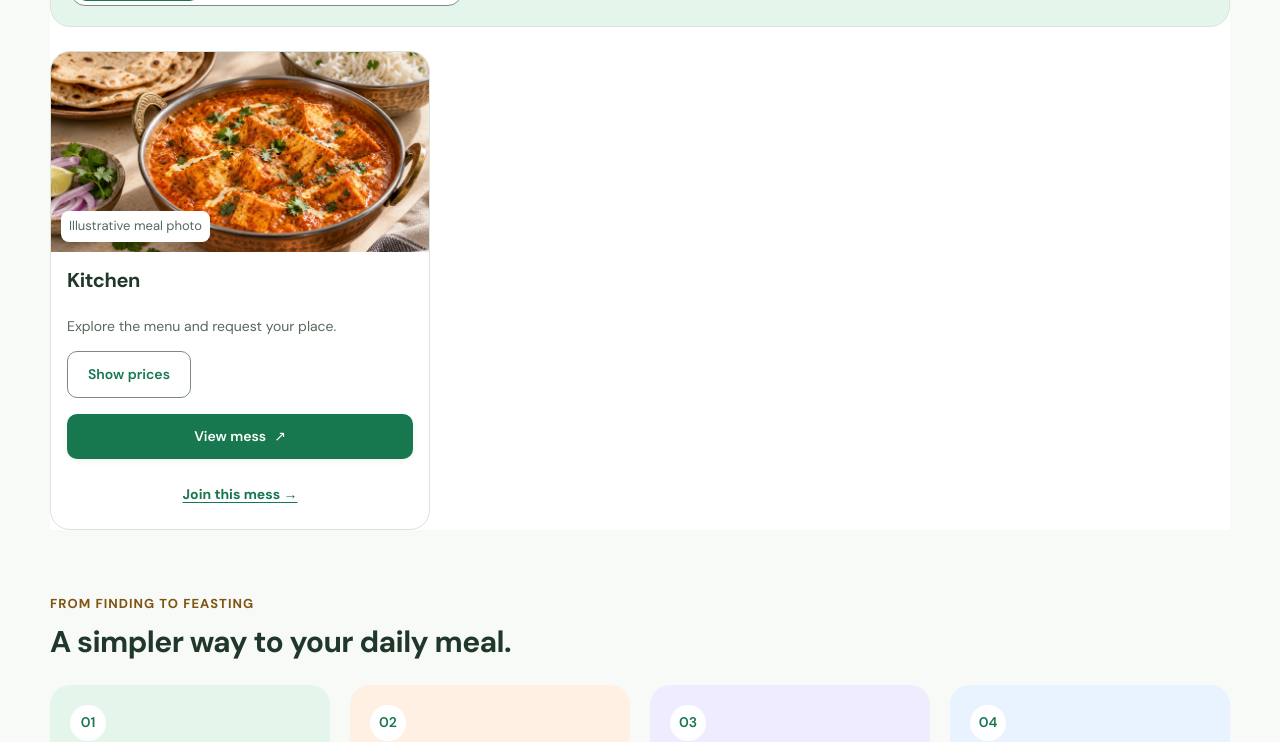
keeps available prices and offers a retry after a partial price failure
(page scrolled)
Expected: the heading "Kitchen" is shown, [67, 266, 140, 292]
What coordinates should you click on to do the following:
click the button "Show prices"
I would click on:
 (129, 374)
Its box is [67, 351, 191, 398].
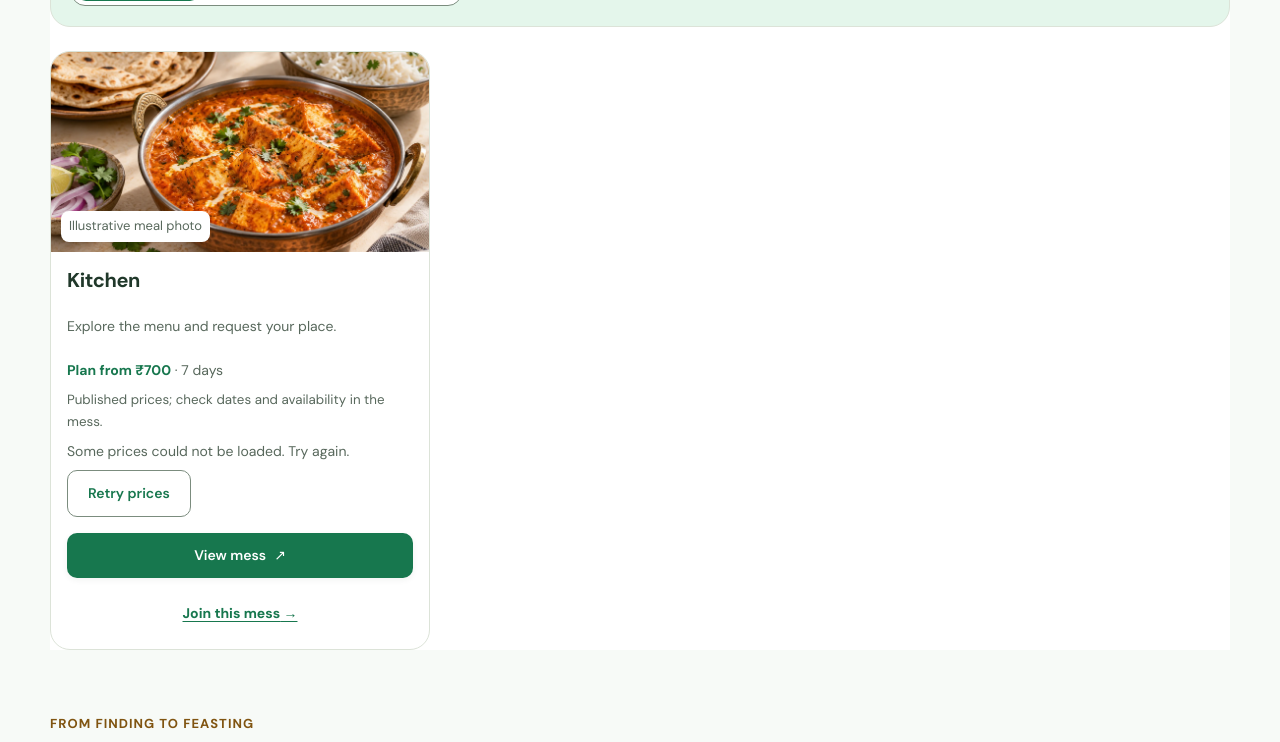
Expected: the message "Some prices could not be loaded. Try again." is shown, [67, 442, 349, 460]
Expected: the text "Plan from ₹700" is shown, [67, 361, 171, 379]
What coordinates should you click on to do the following:
click the button "Retry prices"
I would click on:
 (129, 494)
Its box is [67, 470, 191, 517].
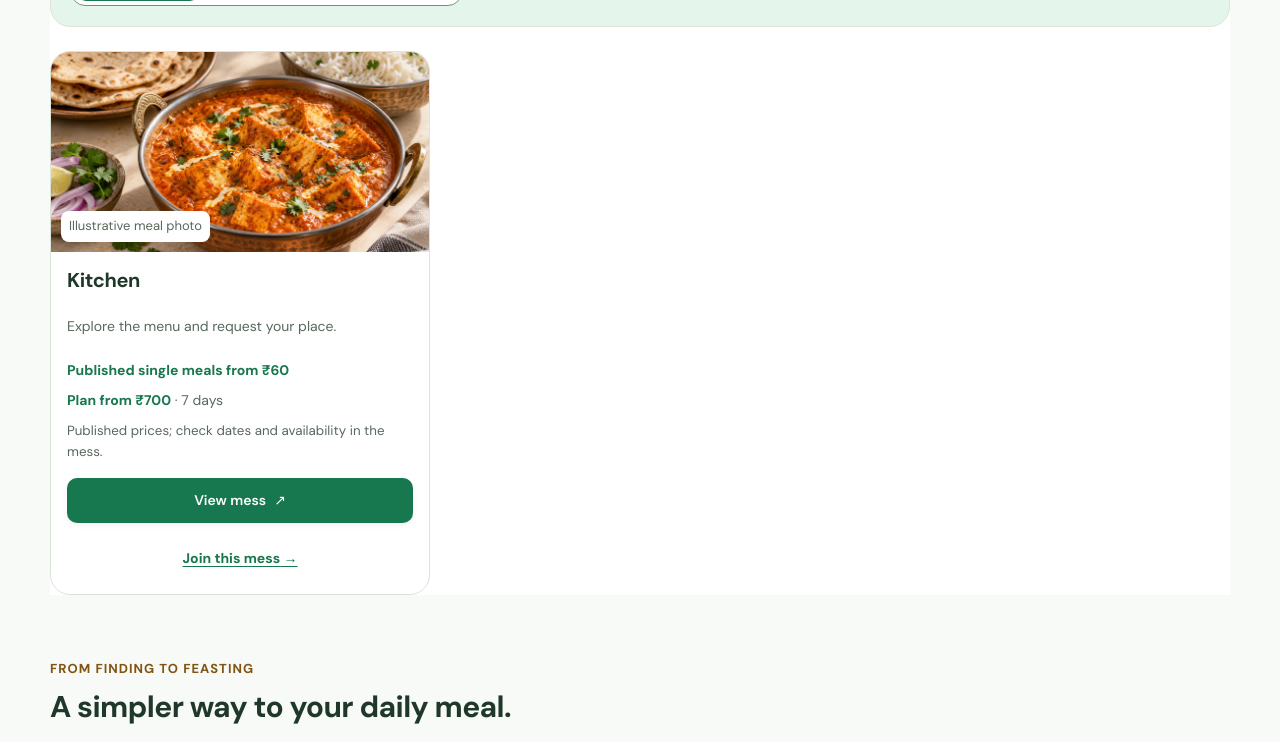
Expected: the text "Published single meals from ₹60" is shown, [67, 361, 289, 379]
Expected: the message "Some prices could not be loaded. Try again." is gone
